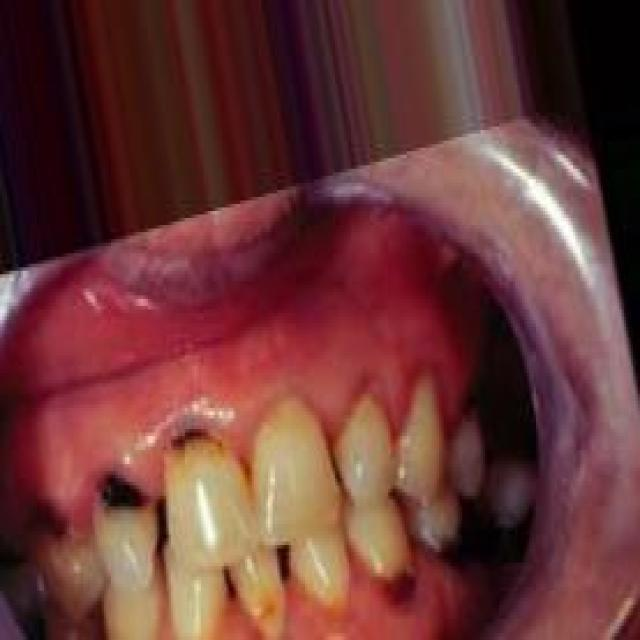caries: (93, 462, 156, 538), (165, 412, 230, 476), (378, 548, 427, 620)
